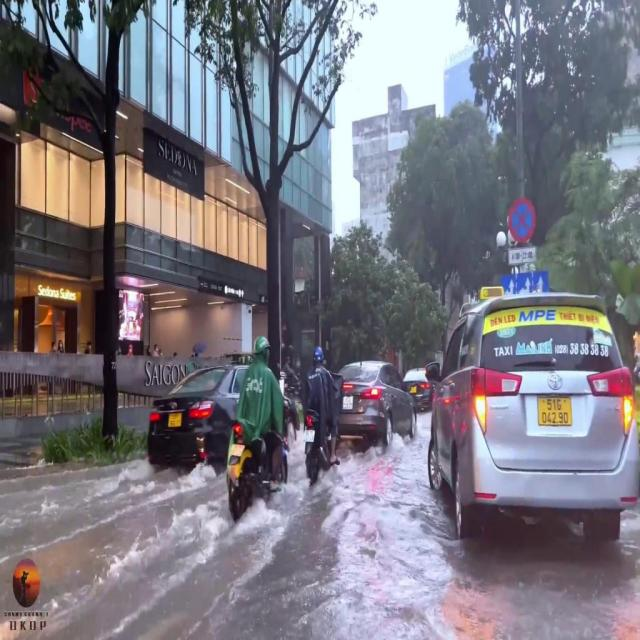cam_dung_xe_va_do_xe: (508, 198, 537, 245)
huong_di_tren_moi_lan_duong_theo_vach_ke_duong: (502, 272, 550, 296)
khac: (508, 246, 536, 263)
